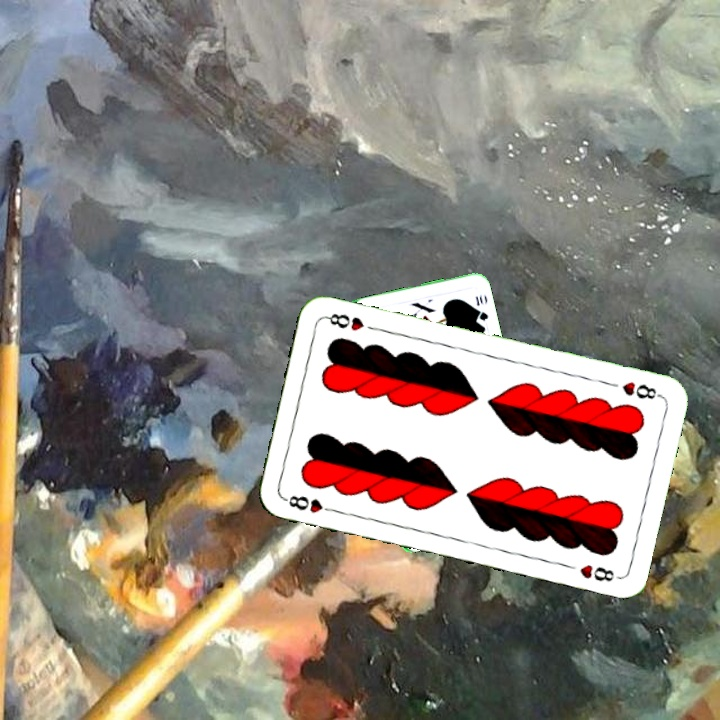H8: (280, 491, 339, 516), (618, 377, 663, 402)
